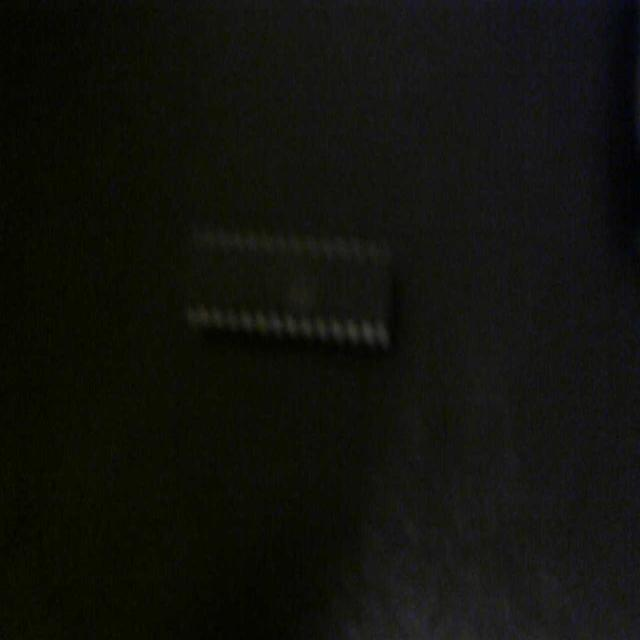atmega: (176, 214, 400, 363)
